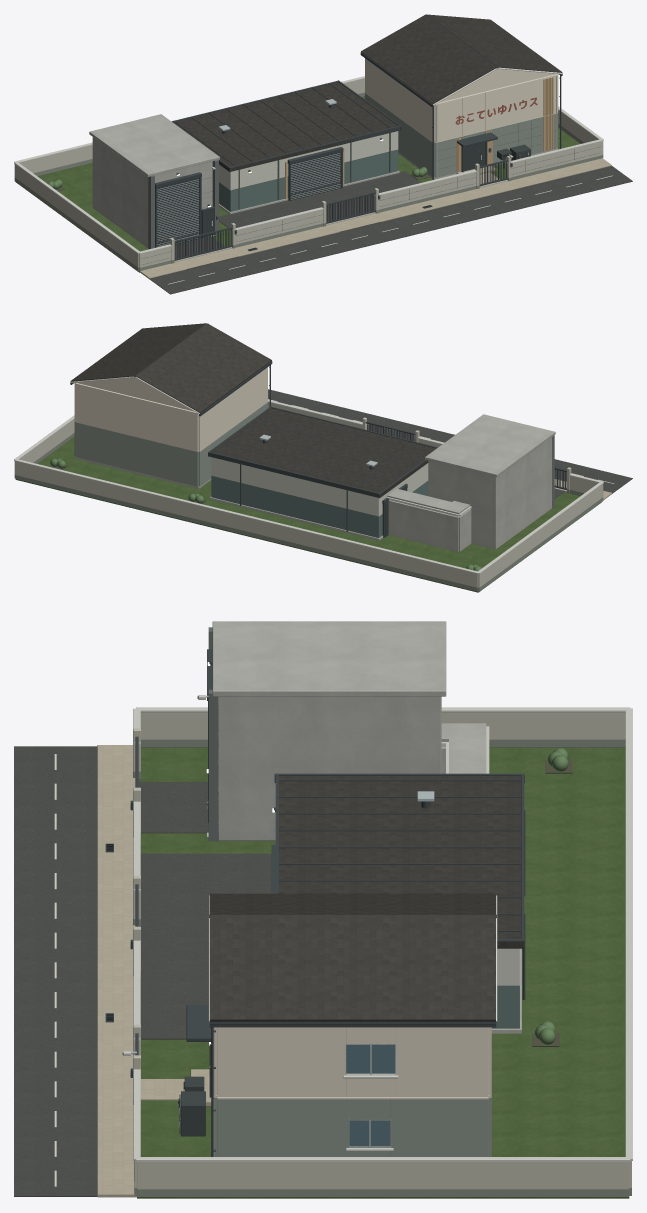
The model's file is room.glb.
3 views of the same model, one above another, from view 1: azimuth 30°, elevation 25°; view 2: azimuth 150°, elevation 25°; view 3: azimuth 270°, elevation 25° (orthographic). The views are drawn at different scales.
Visible parts, largest first — view 1: Outdoor.house.Outdoor_PBR_stucco, Warehouse roof, Outdoor.perimeter-security.R240_Perimeter_warm_limestone, Outdoor.street.Outdoor_PBR_asphalt, Outdoor.freight-lift.Outdoor_PBR_concrete, House pitched roof, Warehouse exterior shell, Outdoor.street.Outdoor_PBR_paver, Outdoor.paving.Outdoor_PBR_asphalt, Outdoor.terrain.Outdoor_PBR_grass, Outdoor.warehouse.Charcoal_powder-coated_metal, Outdoor.freight-lift.Outdoor_PBR_steel (+12 smaller); view 2: Outdoor.house.Outdoor_PBR_stucco, Outdoor.perimeter-security.R240_Perimeter_warm_limestone, Outdoor.freight-lift.Outdoor_PBR_concrete, Warehouse roof, House pitched roof, Warehouse exterior shell, Outdoor.terrain.Outdoor_PBR_grass, Outdoor.secure-corridor.Outdoor_PBR_concrete, Outdoor.street.Outdoor_PBR_asphalt, Outdoor.perimeter-security.Warm_ivory_exterior_trim, Outdoor.warehouse.Charcoal_powder-coated_metal, Outdoor.perimeter-security.Charcoal_powder-coated_metal (+2 smaller); view 3: Outdoor.terrain.Outdoor_PBR_grass, Outdoor.freight-lift.Outdoor_PBR_concrete, Outdoor.street.Outdoor_PBR_asphalt, House pitched roof, Outdoor.house.Outdoor_PBR_stucco, Warehouse roof, Outdoor.perimeter-security.R240_Perimeter_warm_limestone, Outdoor.paving.Outdoor_PBR_asphalt, Outdoor.street.Outdoor_PBR_paver, Outdoor.perimeter-security.Warm_ivory_exterior_trim, Outdoor.warehouse.Charcoal_powder-coated_metal, Outdoor.house.Charcoal_powder-coated_metal (+8 smaller).
Part boxes in pixels (x1,y1,x2,y2): Outdoor.house.Outdoor_PBR_stucco: (365, 58, 558, 177); Warehouse roof: (173, 82, 397, 171); Outdoor.perimeter-security.R240_Perimeter_warm_limestone: (14, 79, 603, 271); Outdoor.street.Outdoor_PBR_asphalt: (149, 166, 632, 294); Outdoor.freight-lift.Outdoor_PBR_concrete: (89, 114, 219, 248); House pitched roof: (361, 14, 562, 104); Warehouse exterior shell: (219, 131, 398, 211); Outdoor.street.Outdoor_PBR_paver: (140, 158, 611, 278); Outdoor.paving.Outdoor_PBR_asphalt: (175, 171, 420, 269); Outdoor.terrain.Outdoor_PBR_grass: (16, 96, 579, 272); Outdoor.warehouse.Charcoal_powder-coated_metal: (171, 80, 401, 200); Outdoor.freight-lift.Outdoor_PBR_steel: (157, 178, 214, 247); Outdoor.house.Outdoor_PBR_stucco: (74, 367, 267, 486); Outdoor.perimeter-security.R240_Perimeter_warm_limestone: (14, 402, 603, 591); Outdoor.freight-lift.Outdoor_PBR_concrete: (425, 414, 555, 549); Warehouse roof: (211, 408, 436, 497); House pitched roof: (70, 323, 271, 413); Warehouse exterior shell: (211, 457, 428, 537); Outdoor.terrain.Outdoor_PBR_grass: (15, 437, 601, 592); Outdoor.secure-corridor.Outdoor_PBR_concrete: (387, 488, 471, 551); Outdoor.street.Outdoor_PBR_asphalt: (268, 389, 632, 493); Outdoor.perimeter-security.Warm_ivory_exterior_trim: (14, 399, 603, 574); Outdoor.warehouse.Charcoal_powder-coated_metal: (208, 406, 437, 537); Outdoor.perimeter-security.Charcoal_powder-coated_metal: (365, 421, 566, 489); Outdoor.terrain.Outdoor_PBR_grass: (137, 747, 629, 1198); Outdoor.freight-lift.Outdoor_PBR_concrete: (212, 621, 446, 840); Outdoor.street.Outdoor_PBR_asphalt: (14, 746, 97, 1196); House pitched roof: (210, 893, 495, 1021); Outdoor.house.Outdoor_PBR_stucco: (214, 1027, 491, 1156); Warehouse roof: (278, 776, 524, 948); Outdoor.perimeter-security.R240_Perimeter_warm_limestone: (133, 712, 631, 1196); Outdoor.paving.Outdoor_PBR_asphalt: (138, 782, 271, 1039); Outdoor.street.Outdoor_PBR_paver: (97, 745, 136, 1197); Outdoor.perimeter-security.Warm_ivory_exterior_trim: (123, 707, 632, 1161); Outdoor.warehouse.Charcoal_powder-coated_metal: (271, 773, 525, 999); Outdoor.house.Charcoal_powder-coated_metal: (186, 914, 496, 1156).
Bounding box in the file's own units: 41.08 × 8.46 × 23.74.
Materials: 29 (7 with a texture image).
